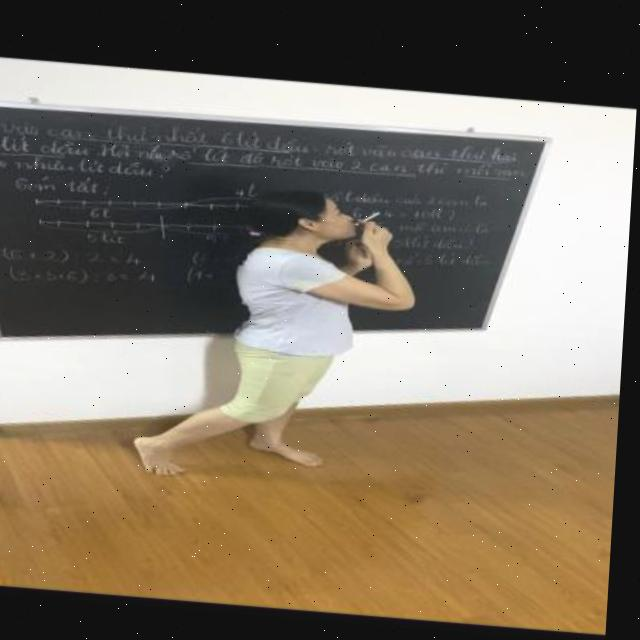cigarette: (356, 203, 383, 222)
